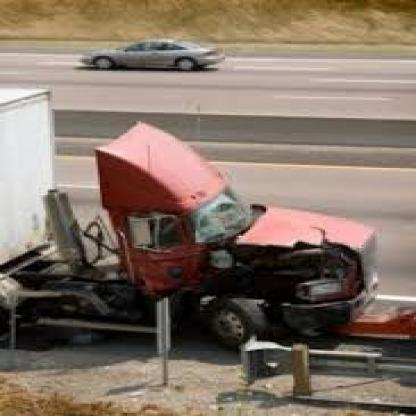accident: (0, 81, 416, 368)
